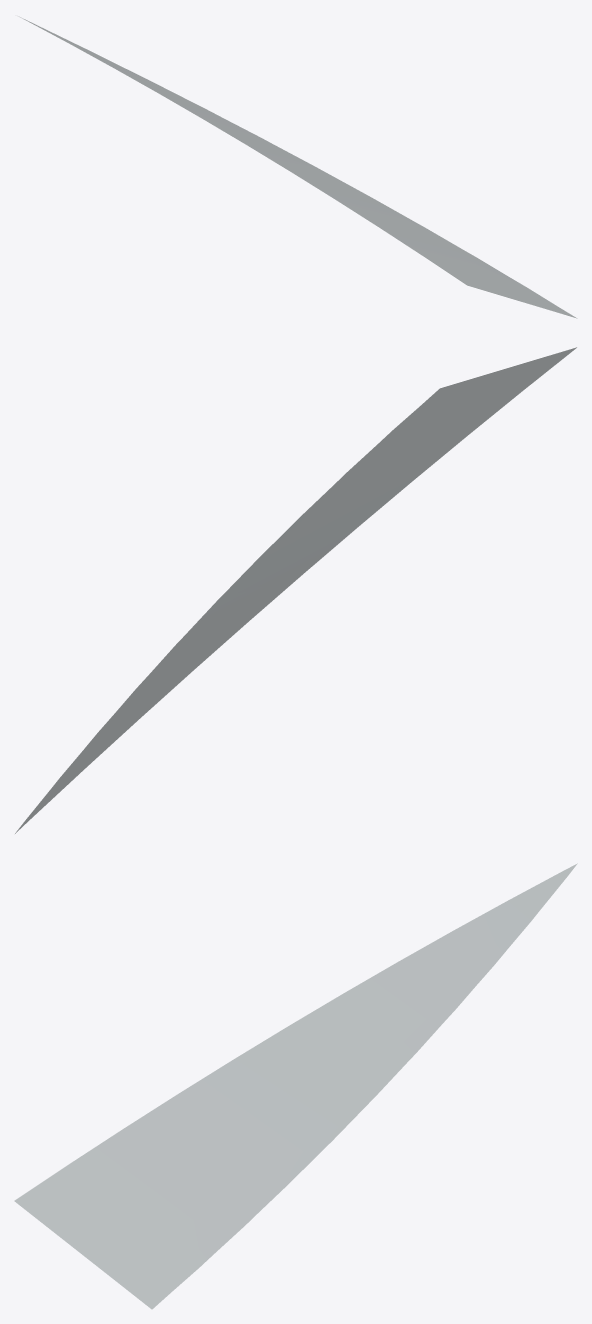
The model's file is alpine-11-1.glb.
The picture shows the model from 3 angles, top to bottom: view 1: azimuth 30°, elevation 25°; view 2: azimuth 150°, elevation 25°; view 3: azimuth 330°, elevation 25°; orthographic projection. The views are drawn at different scales.
Parts seen in each view (by area): view 1: alpine-11-1; view 2: alpine-11-1; view 3: alpine-11-1.
Boxes of the visible parts, box(x1,y1,x2,y2) form: alpine-11-1: box(18, 16, 577, 318); alpine-11-1: box(15, 347, 576, 833); alpine-11-1: box(14, 863, 577, 1309).
Bounding box in the file's own units: 11.63 × 6.04 × 82.25.
Materials: 1 (1 with a texture image).
